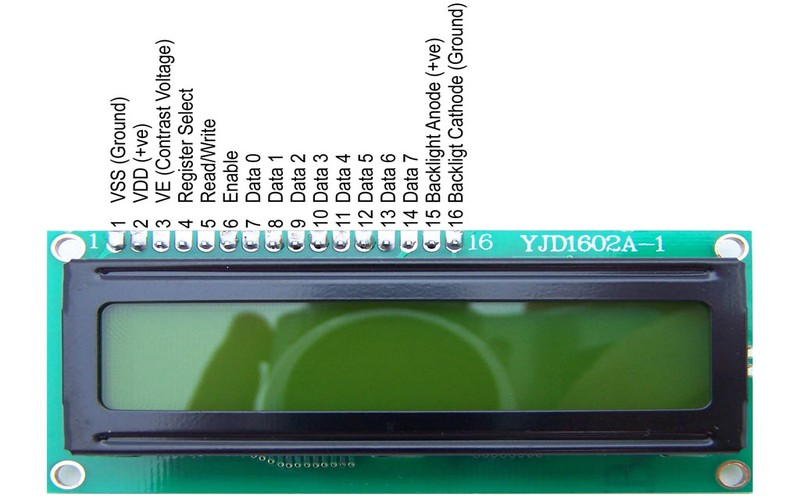LCD: (50, 251, 748, 455)
